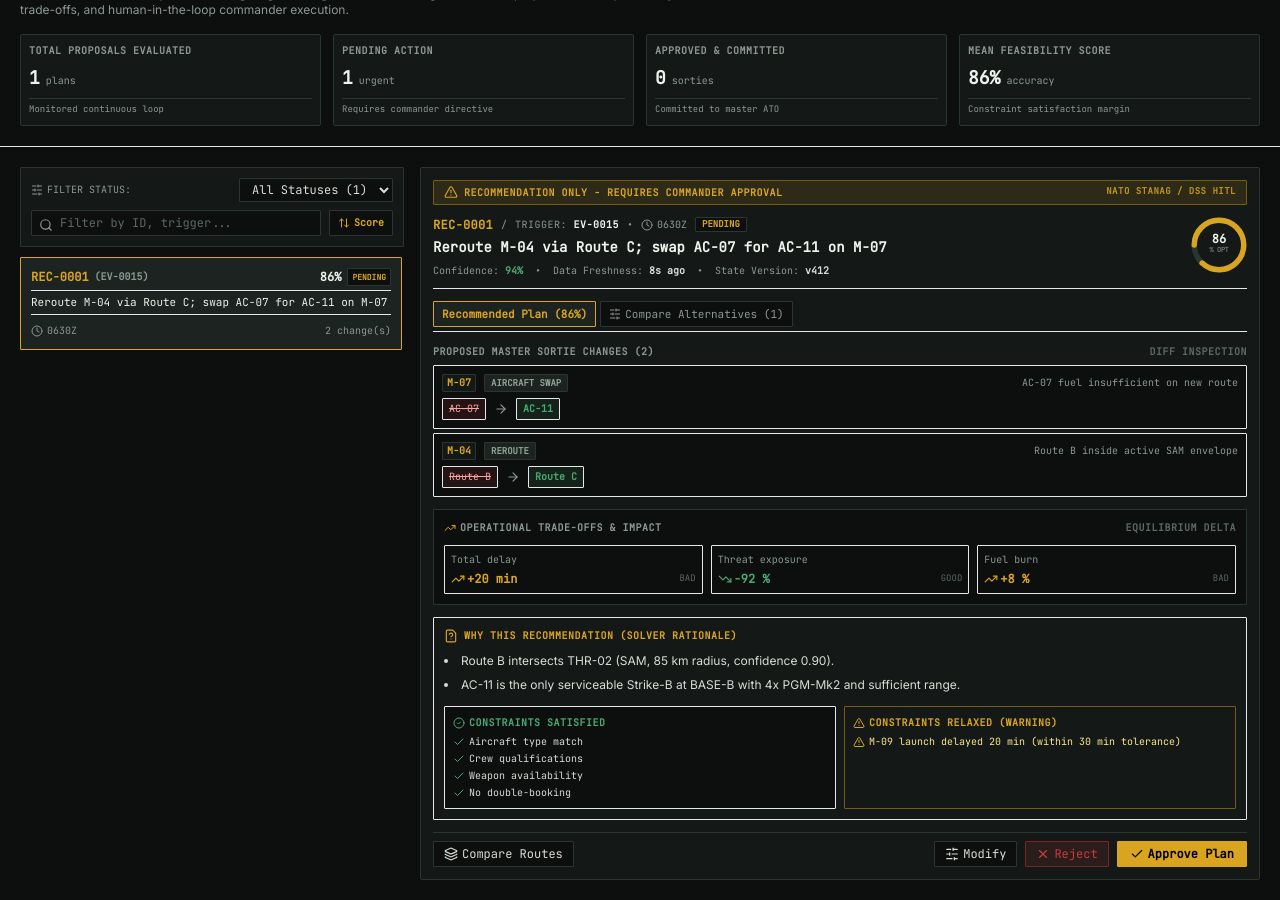
Scenario: Stage 7: RecommendationsPage & RecommendationCard › supports Modify mode with eligible resource selection and re-validation
(page scrolled)
Click the button "Modify": [976, 854] box [934,841,1017,867]
(page scrolled)
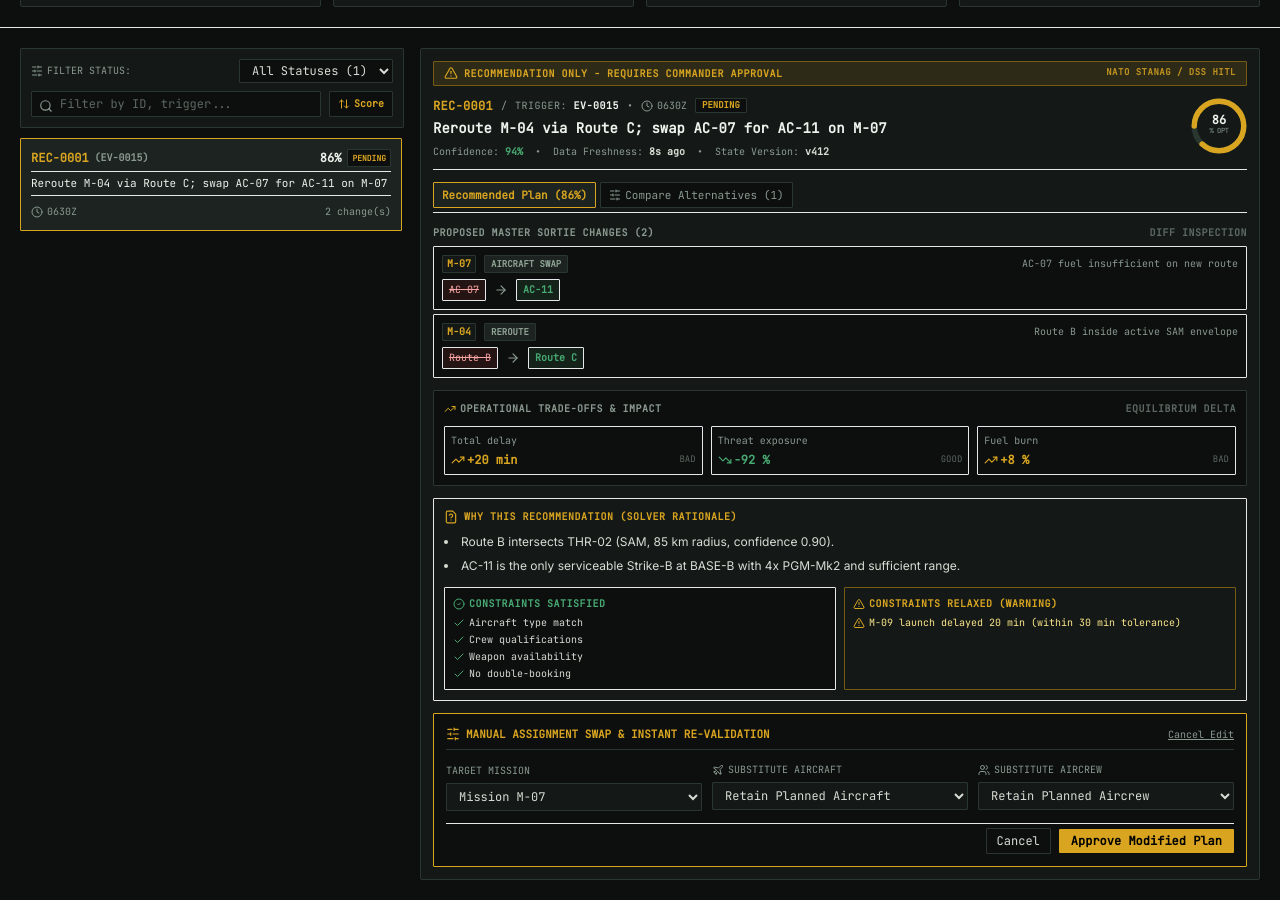
Now the text "Manual Assignment Swap & Instant Re-validation" is shown, box [466,726,770,742]
Now the dropdown named "Substitute Aircraft" is shown, box [712,782,968,810]
Now the dropdown named "Substitute Aircrew" is shown, box [978,782,1234,810]
